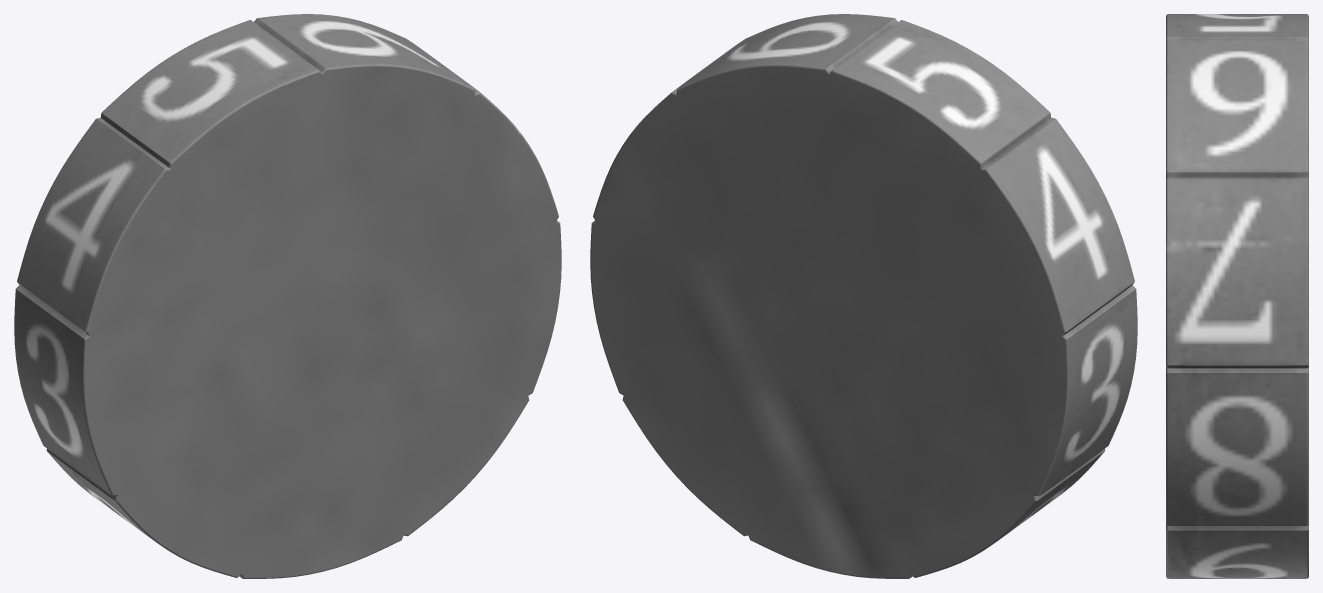
File: Zamek_Szyfrowy.fbx
3 renders of one model, left to right at view 1: azimuth 30°, elevation 25°; view 2: azimuth 150°, elevation 25°; view 3: azimuth 270°, elevation 25°, orthographic.
Parts seen in each view (by area): view 1: Cylinder.002; view 2: Cylinder.002; view 3: Cylinder.002.
Part boxes in pixels (bbox=[...]): Cylinder.002: bbox=[14, 14, 561, 578]; Cylinder.002: bbox=[590, 14, 1137, 578]; Cylinder.002: bbox=[1166, 14, 1308, 578].
Size of the model in its own units: 7.9 by 7.93 by 2.
1 material, 1 textured.
